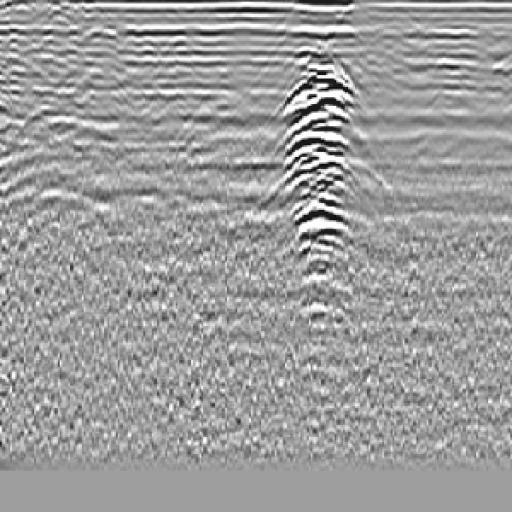metalic: (275, 25, 367, 314)
